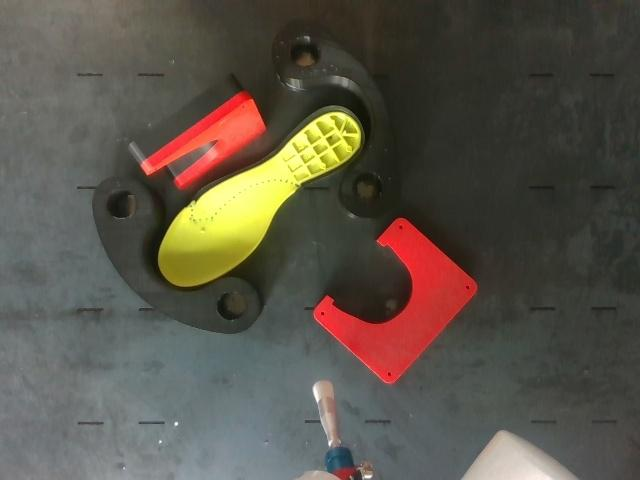shoes: (158, 106, 365, 286)
